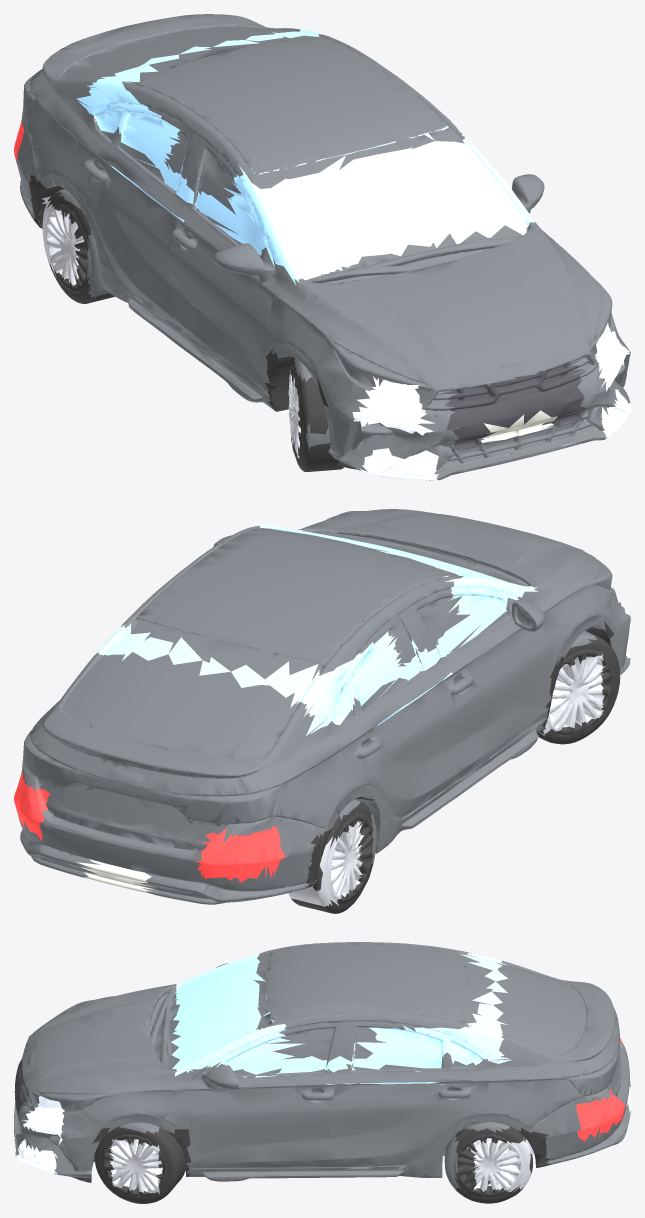
The model's file is forte.glb.
3 views of the same model, one above another, from view 1: azimuth 30°, elevation 25°; view 2: azimuth 150°, elevation 25°; view 3: azimuth 270°, elevation 25° (orthographic). The views are drawn at different scales.
Parts seen in each view (by area): view 1: paint, glass, trim, rubber, lamp, alloy, plate; view 2: paint, glass, alloy, rubber, tail, plate; view 3: paint, glass, rubber, alloy, lamp, tail, trim.
Boxes of the visible parts, x1,y1,x2,y2 form: paint: (16, 14, 630, 480); glass: (76, 29, 535, 284); trim: (338, 359, 586, 469); rubber: (29, 175, 574, 471); lamp: (352, 323, 630, 480); alloy: (42, 196, 300, 457); plate: (480, 410, 557, 442); paint: (17, 509, 630, 904); glass: (95, 525, 537, 735); alloy: (288, 635, 604, 907); rubber: (291, 620, 620, 913); tail: (14, 771, 286, 882); plate: (77, 859, 156, 894); paint: (14, 942, 630, 1189); glass: (171, 951, 511, 1084); rubber: (92, 1126, 551, 1203); alloy: (109, 1137, 532, 1193); lamp: (16, 1094, 64, 1174); tail: (576, 1038, 625, 1141); trim: (14, 1057, 94, 1182).
Size of the model in its own units: 2.13 by 1.5 by 4.64.
